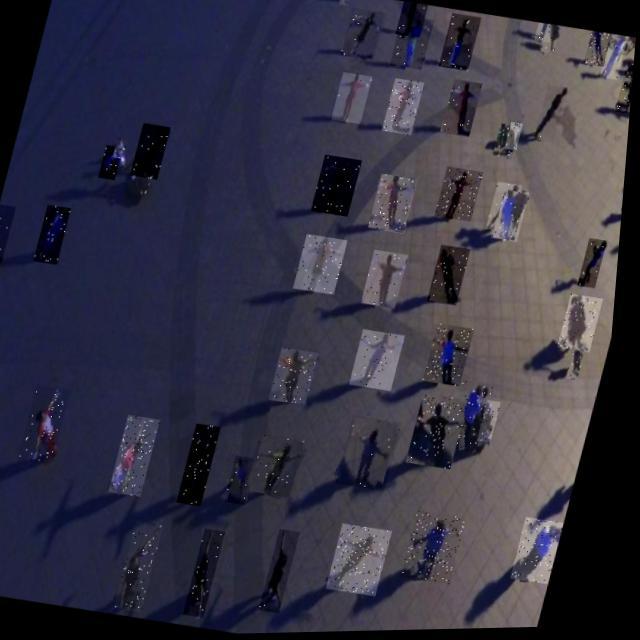Person: (343, 415, 409, 493), (409, 511, 475, 587), (335, 524, 401, 599), (413, 394, 475, 472), (123, 521, 172, 614), (116, 415, 167, 498), (253, 434, 315, 502), (25, 384, 77, 464), (519, 518, 573, 587), (185, 424, 229, 508), (193, 529, 234, 619), (453, 381, 502, 455), (355, 329, 411, 393), (269, 530, 309, 615), (297, 235, 352, 296), (429, 325, 480, 390), (314, 155, 365, 219), (371, 174, 421, 236), (274, 347, 325, 407), (365, 251, 413, 310), (438, 168, 486, 225), (432, 246, 475, 308), (563, 296, 608, 355), (383, 79, 426, 137), (439, 15, 482, 73), (390, 16, 434, 72), (443, 80, 484, 139), (341, 9, 386, 62), (132, 123, 173, 180), (37, 204, 75, 265), (333, 73, 374, 126), (494, 190, 533, 245), (536, 86, 569, 146), (489, 183, 525, 236), (232, 456, 264, 506), (582, 241, 611, 291), (601, 36, 628, 82), (395, 3, 428, 40), (0, 204, 19, 263), (484, 402, 508, 445), (494, 125, 521, 163), (584, 33, 612, 69), (616, 66, 635, 118), (101, 145, 125, 181), (573, 343, 592, 383), (541, 26, 562, 56), (507, 124, 525, 153), (534, 24, 555, 46), (115, 140, 131, 160), (338, 0, 351, 7)
